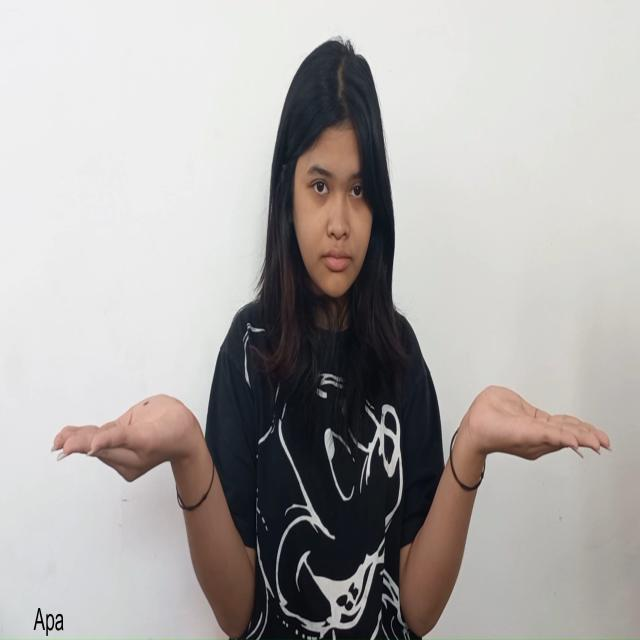Apa -BISINDO-: (49, 384, 616, 486)
